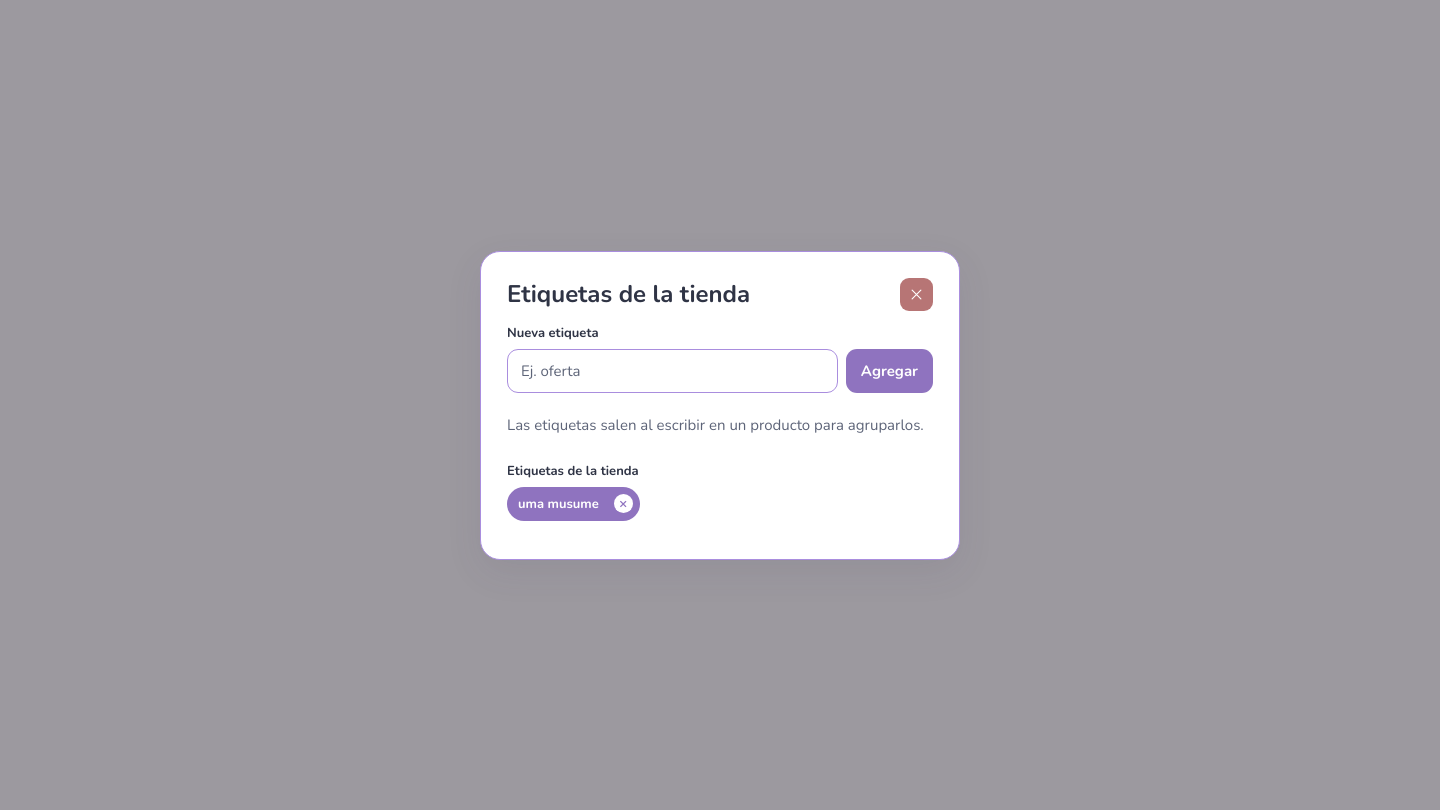
Test: Etiquetas de la tienda: texto completo › no acorta el nombre del tag y la caja de renombrar se ajusta a su texto
Click the button "uma musume": x=558, y=504 [510,490,607,518]
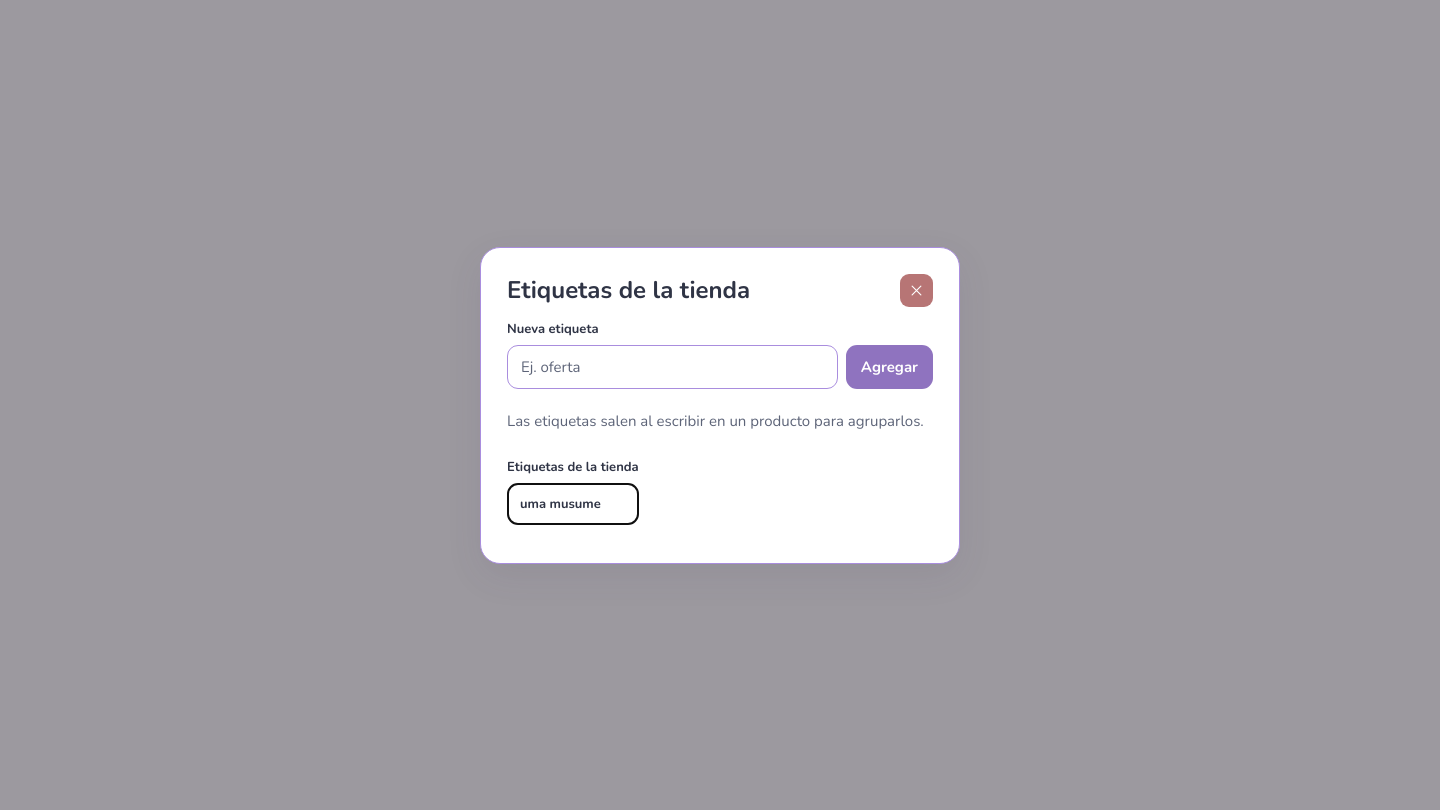
Result: the field with class "tag-rename" holds "uma musume" at [507,482,639,524]
